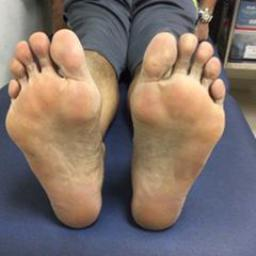Plantar View -Both Feet-: (3, 20, 233, 237)
